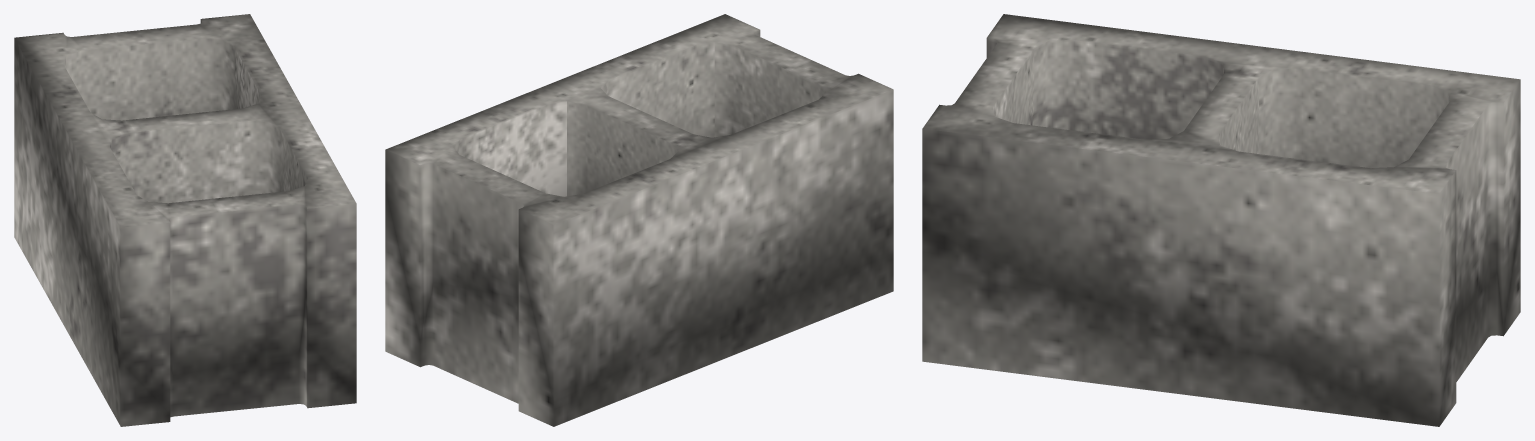
The model's file is blocknew.fbx.
The picture shows the model from 3 angles, left to right: view 1: azimuth 30°, elevation 25°; view 2: azimuth 150°, elevation 25°; view 3: azimuth 270°, elevation 25°; orthographic projection. The views are drawn at different scales.
Visible parts, largest first — view 1: block; view 2: block; view 3: block.
Boxes of the visible parts, x1=… form: block: x1=14, y1=14, x2=356, y2=426; block: x1=385, y1=14, x2=893, y2=426; block: x1=922, y1=14, x2=1520, y2=426.
Bounding box in the file's own units: 328 × 198 × 460.
Materials: 1 (1 with a texture image).
